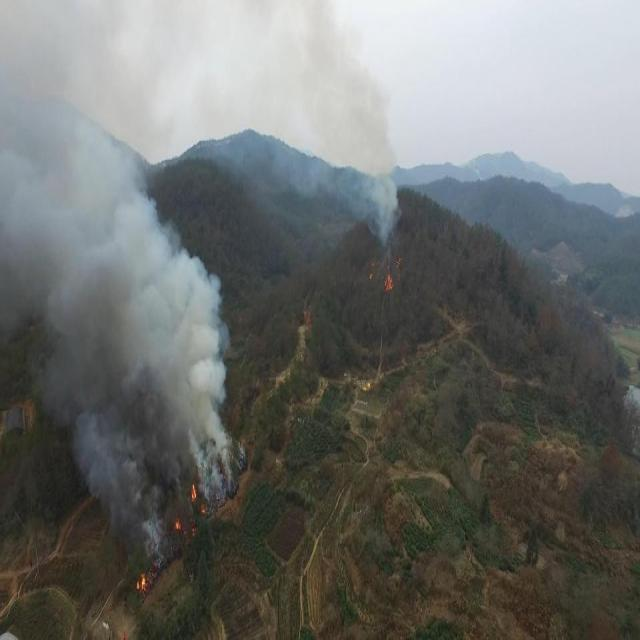Fire: (188, 482, 210, 516), (134, 570, 148, 595), (384, 272, 396, 292), (175, 519, 182, 530)
Smoke: (1, 1, 242, 570), (274, 1, 404, 248)
